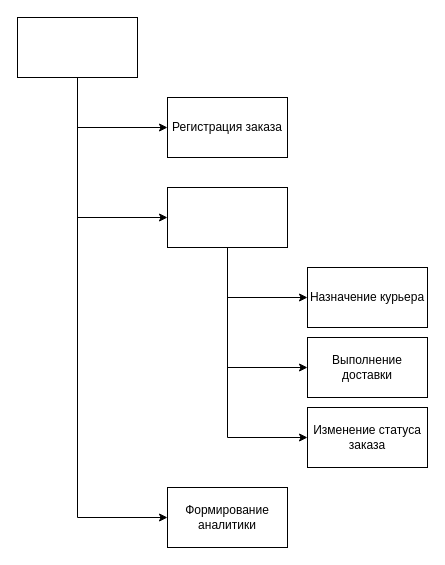
This 445x565 diagram has some shape labels left out. The shapes that lost their labels are listed below. From the top down, each one's centre as x and y in pixels, then its label:
At point (77, 47): "Система LogiTrack".
At point (227, 217): "Доставка заказа".
